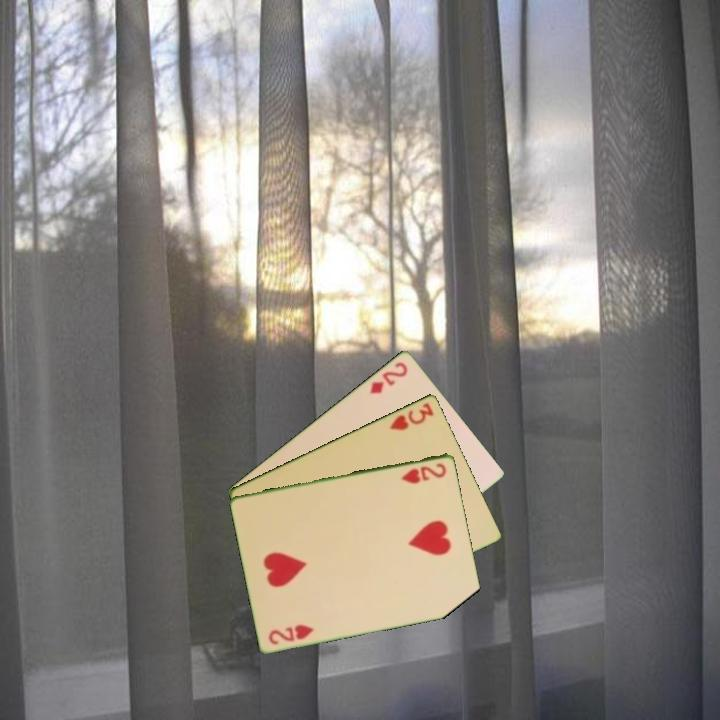2d: (366, 358, 411, 396)
2h: (397, 459, 449, 486), (265, 620, 317, 647)
3h: (386, 399, 437, 433)
